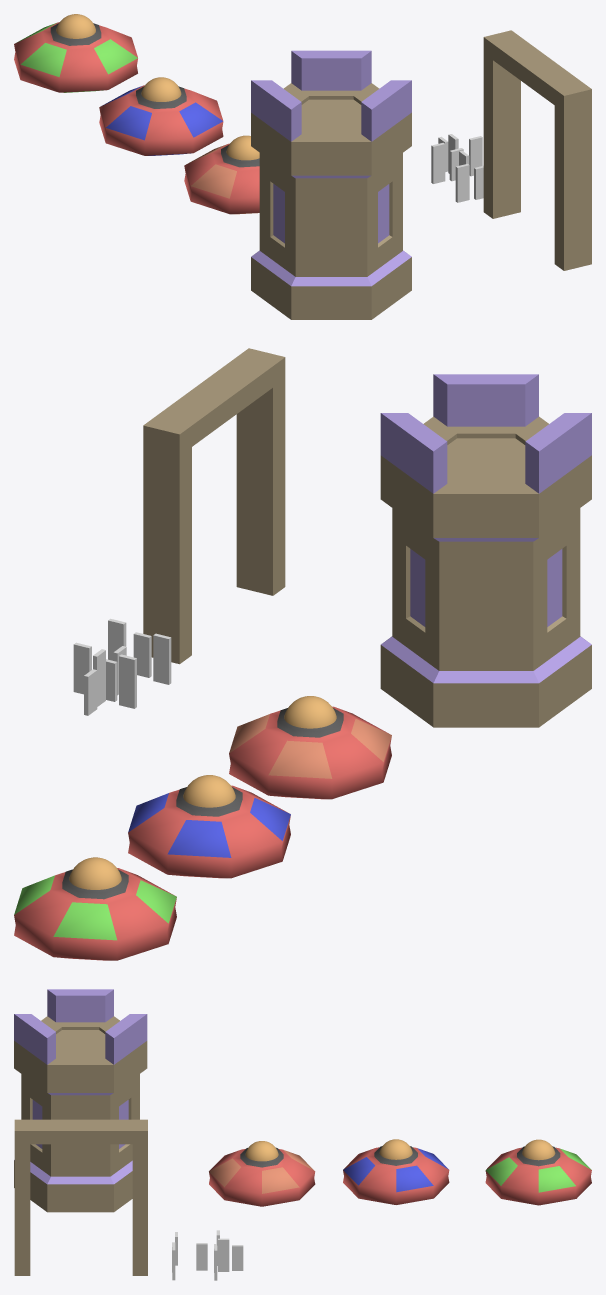
File: AssetsObjects.fbx
The picture shows the model from 3 angles, top to bottom: view 1: azimuth 30°, elevation 25°; view 2: azimuth 150°, elevation 25°; view 3: azimuth 270°, elevation 25°; orthographic projection. The views are drawn at different scales.
Parts seen in each view (by area): view 1: Tower, Portal, Mob.001, Mob.002, Mob, Grass, Grass2; view 2: Tower, Portal, Mob.001, Mob.002, Mob, Grass, Grass2; view 3: Tower, Portal, Mob, Mob.002, Mob.001, Grass.
Boxes of the visible parts, x1,y1,x2,y2 form: Tower: (251,50,411,319); Portal: (483,30,591,270); Mob.001: (99,77,223,155); Mob.002: (14,14,137,92); Mob: (184,135,259,214); Grass: (431,134,482,183); Grass2: (455,163,483,202); Tower: (380,374,591,727); Portal: (143,348,285,664); Mob.001: (128,775,290,878); Mob.002: (14,857,176,960); Mob: (229,696,391,799); Grass: (73,642,136,715); Grass2: (108,618,171,684); Tower: (14,989,147,1212); Portal: (14,1119,147,1275); Mob: (209,1141,315,1206); Mob.002: (485,1139,591,1205); Mob.001: (343,1139,449,1204); Grass: (196,1230,243,1280).
Size of the model in its own units: 419 by 288 by 867.
